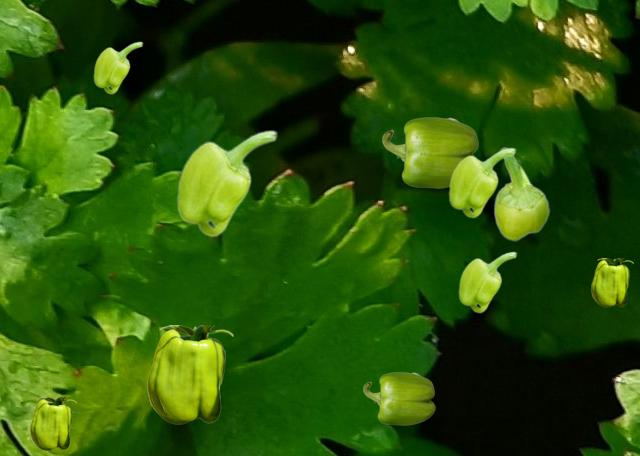bell_pepper: (176, 129, 277, 236), (147, 325, 232, 423), (382, 117, 478, 187), (493, 147, 549, 240), (448, 147, 515, 217), (363, 372, 434, 424), (458, 251, 516, 312), (93, 41, 142, 93), (30, 397, 75, 449), (591, 258, 632, 306)
